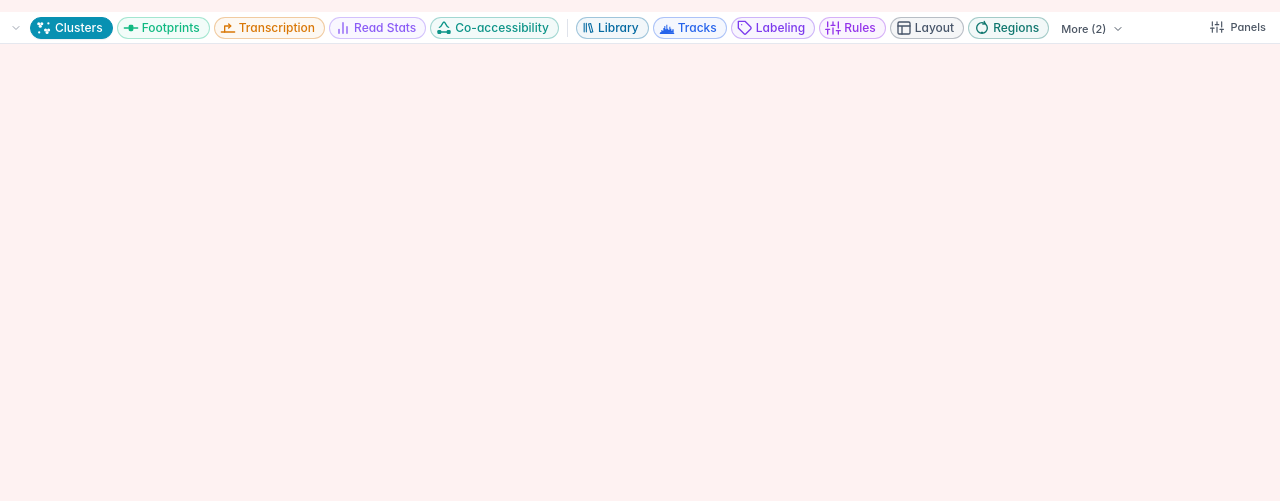
Test case: AnalysisStrip settings shortcuts › configure menu lists strip panels by their one name
Click the button with test id "analysis-strip-configure": (1238, 26) top-left (1202, 16), bottom-right (1274, 38)
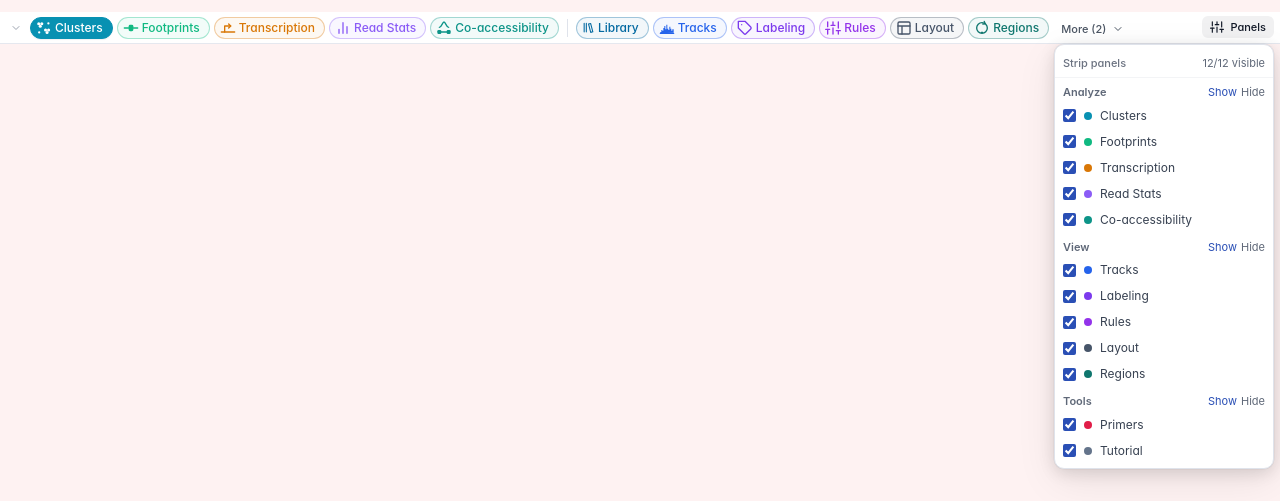
Expected: the element with test id "analysis-strip-menu" is shown, top-left (1054, 44), bottom-right (1274, 468)
Expected: the element with test id "analysis-strip-menu" shows "Clusters", top-left (1100, 108), bottom-right (1147, 122)
